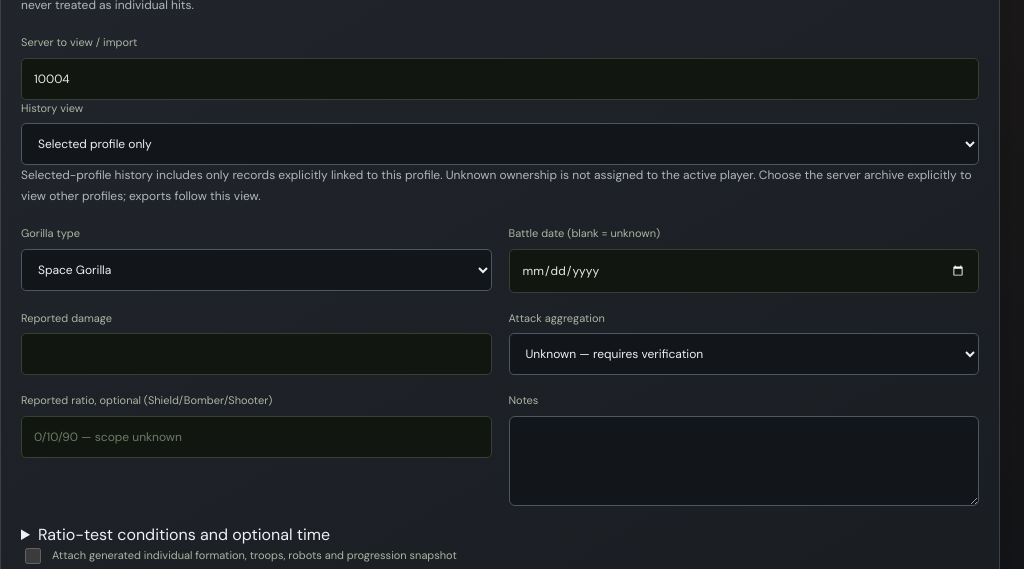
Test: commits native date input events and keeps unknown older records unchanged
This screenshot has width=1024, height=569.
Type "2026-10-20" into the date field labelled "Battle date (blank = unknown)" at coordinates (744, 270), box [508,248,979,292]
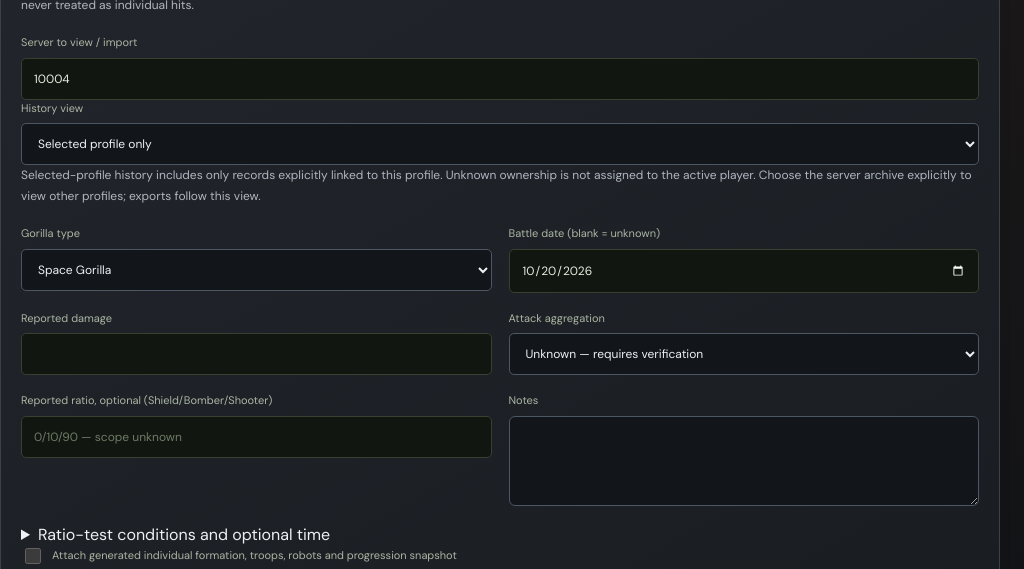
Type "123" into the number field labelled "Reported damage" at coordinates (256, 354), box [21,333,492,375]
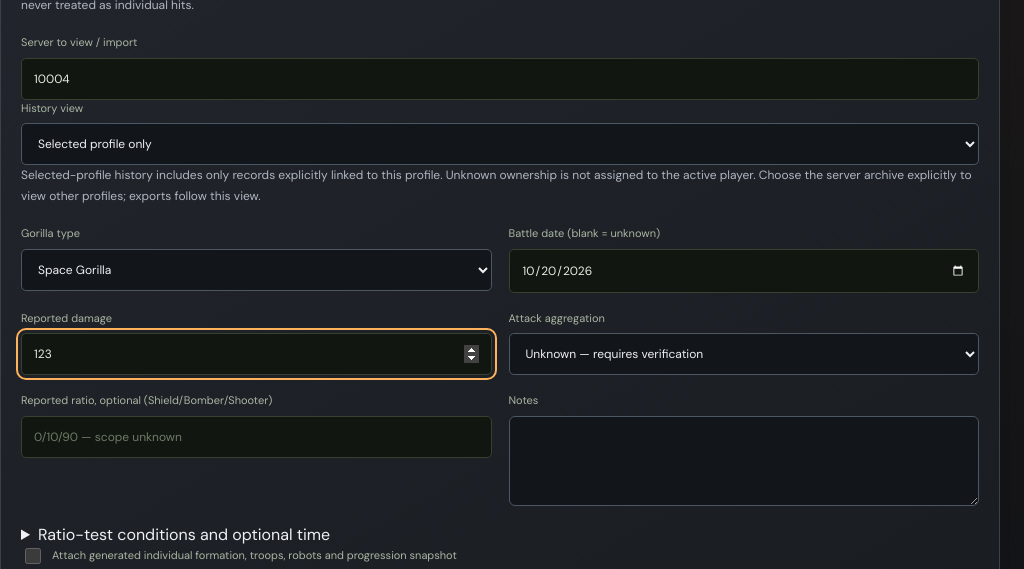
Select "Individual attack" in the dropdown labelled "Attack aggregation" at coordinates (744, 354), box [508,333,979,375]
(page scrolled)
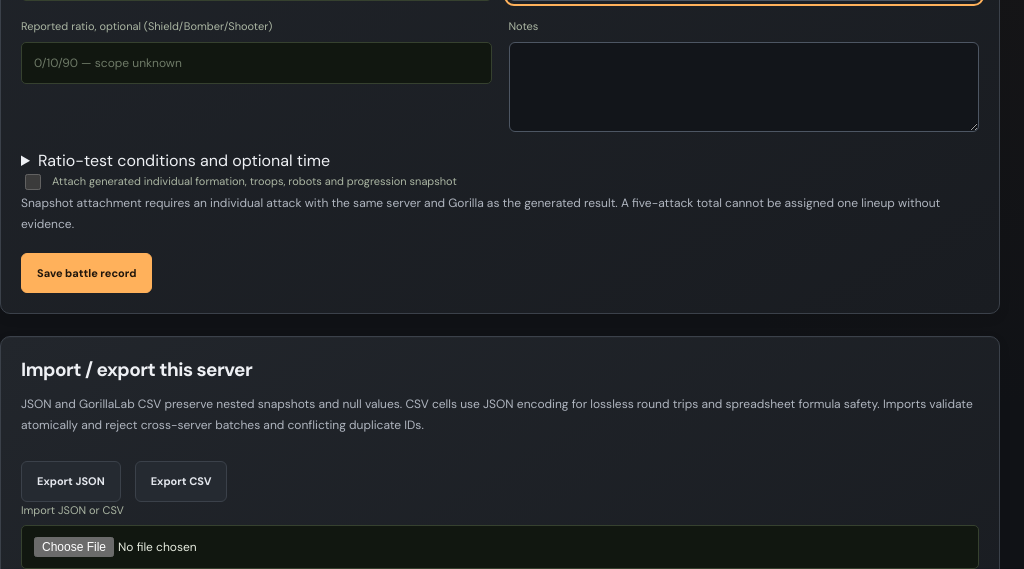
Click the button "Save battle record" at coordinates (87, 273), box [21,252,152,293]
(page scrolled)
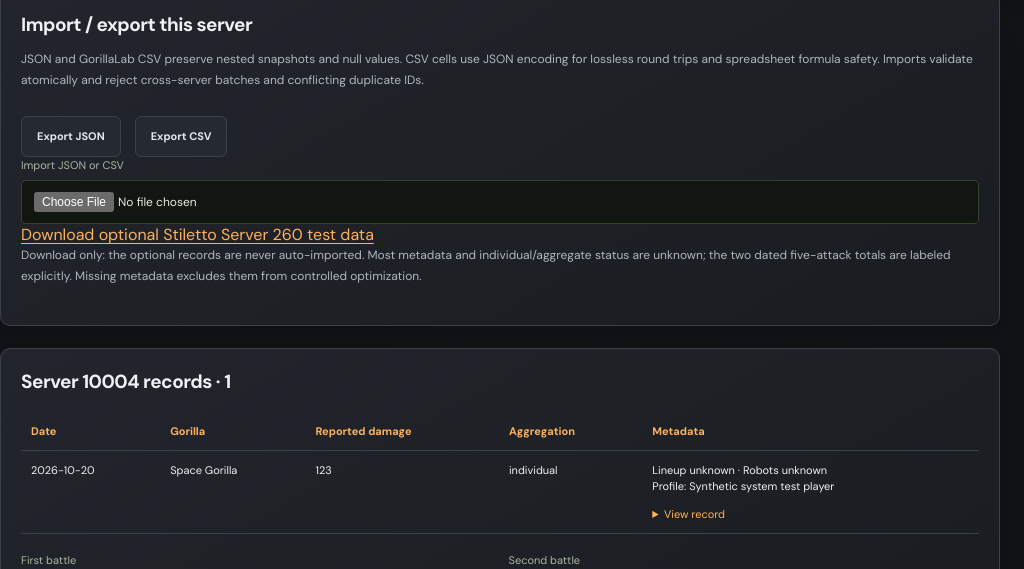
Expected: the text "2026-10-20" is shown, [21,451,160,533]
Click the heading "View record" at coordinates (694, 514), box [664,506,725,520]
(page scrolled)
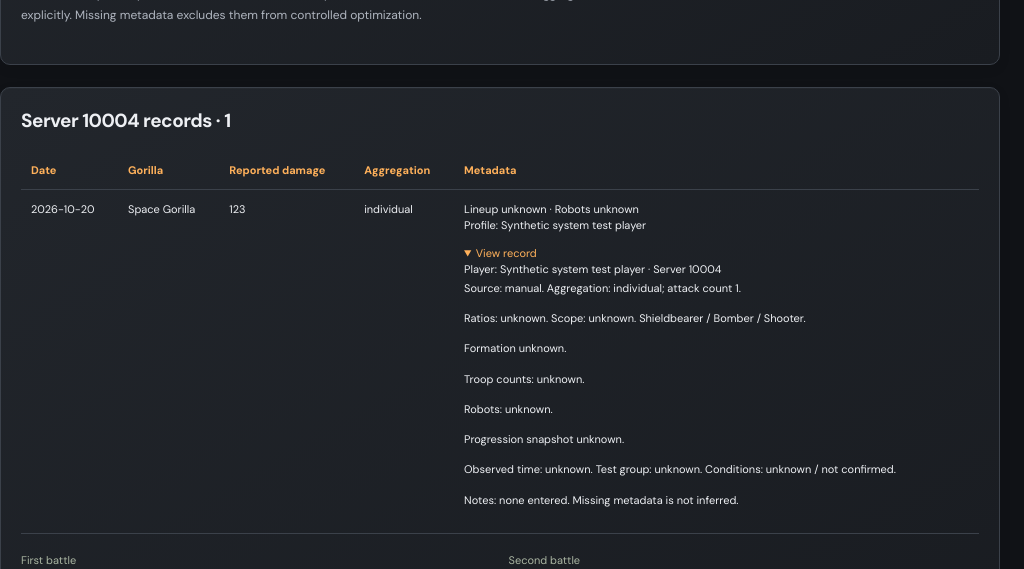
Expected: the text "Formation unknown." is shown, [464,341,566,355]
Expected: the text "Progression snapshot unknown." is shown, [464,432,624,446]
